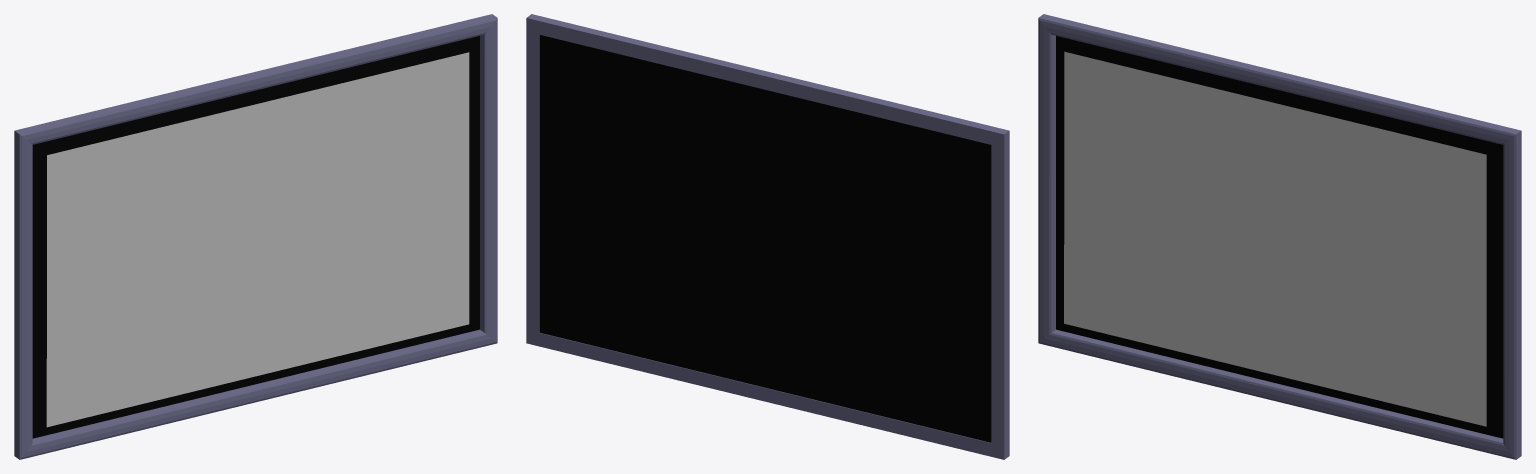
File: YosemiteFrame.obj
3 renders of one model, left to right at view 1: azimuth 30°, elevation 25°; view 2: azimuth 150°, elevation 25°; view 3: azimuth 330°, elevation 25°, orthographic.
Visible parts, largest first — view 1: Photo_Cube_Material_Yosemite, MetalFrame_Cylinder_Aluminium.015, Frame_Black_Material.019; view 2: Frame_Black_Material.019, MetalFrame_Cylinder_Aluminium.015; view 3: Photo_Cube_Material_Yosemite, MetalFrame_Cylinder_Aluminium.015, Frame_Black_Material.019.
Boxes of the visible parts, box(x1,y1,x2,y2) form: Photo_Cube_Material_Yosemite: box(46, 52, 469, 427); MetalFrame_Cylinder_Aluminium.015: box(14, 14, 497, 459); Frame_Black_Material.019: box(32, 36, 479, 438); Frame_Black_Material.019: box(539, 35, 991, 442); MetalFrame_Cylinder_Aluminium.015: box(526, 14, 1009, 459); Photo_Cube_Material_Yosemite: box(1064, 51, 1486, 426); MetalFrame_Cylinder_Aluminium.015: box(1038, 14, 1521, 459); Frame_Black_Material.019: box(1056, 36, 1503, 438).
Bounding box in the file's own units: 73.53 × 47.86 × 1.6.
